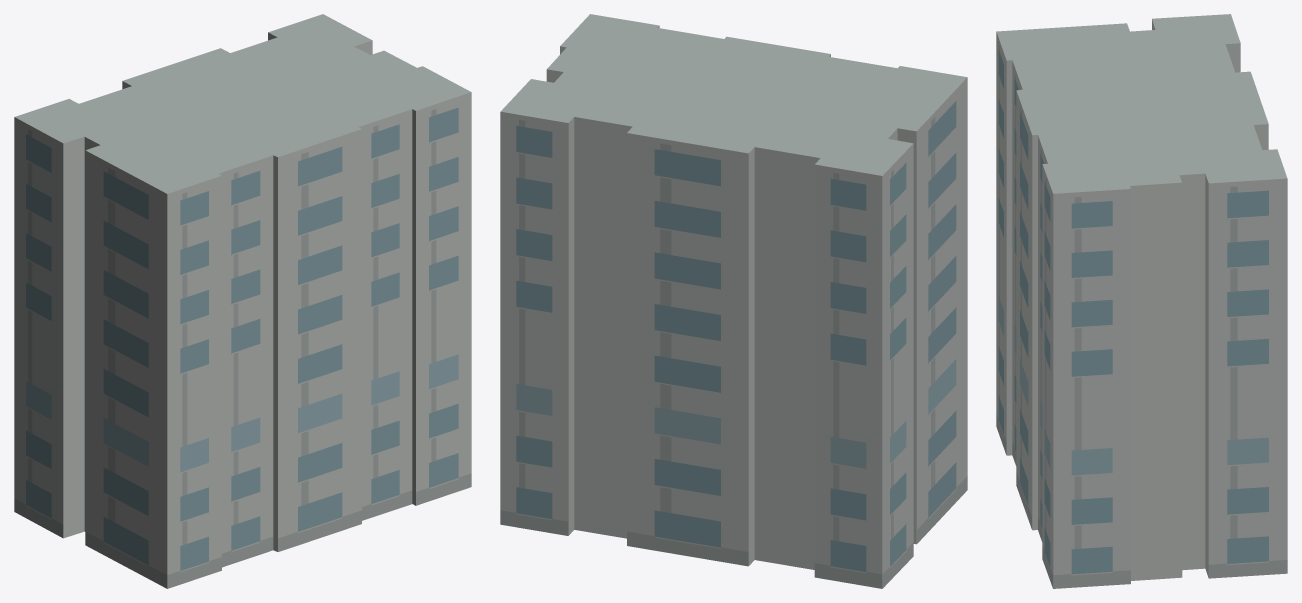
File: survey-upis-32699393.glb
The picture shows the model from 3 angles, left to right: view 1: azimuth 30°, elevation 25°; view 2: azimuth 150°, elevation 25°; view 3: azimuth 270°, elevation 25°; orthographic projection. The views are drawn at different scales.
Visible parts, largest first — view 1: survey-upis-32699393.tmp; view 2: survey-upis-32699393.tmp; view 3: survey-upis-32699393.tmp.
Part boxes in pixels (x1,y1,x2,y2): survey-upis-32699393.tmp: (14, 14, 471, 588); survey-upis-32699393.tmp: (500, 14, 967, 588); survey-upis-32699393.tmp: (996, 14, 1287, 588).
Size of the model in its own units: 19.43 by 19.9 by 13.3.
